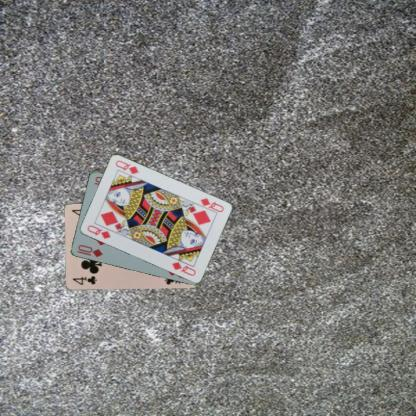10d: (74, 242, 103, 259)
4c: (70, 273, 98, 287)
Qd: (194, 195, 225, 215), (84, 222, 112, 240)
